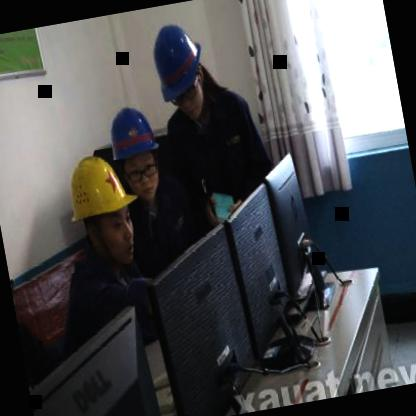helmet: (59, 145, 146, 276), (142, 10, 216, 132), (100, 97, 174, 218)
